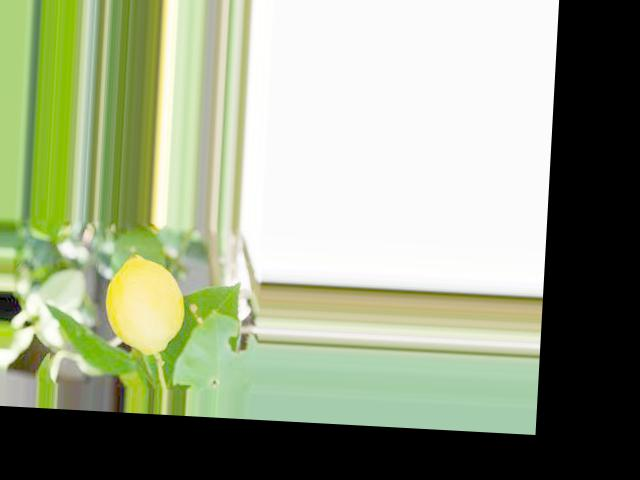lemon: (95, 243, 195, 360)
